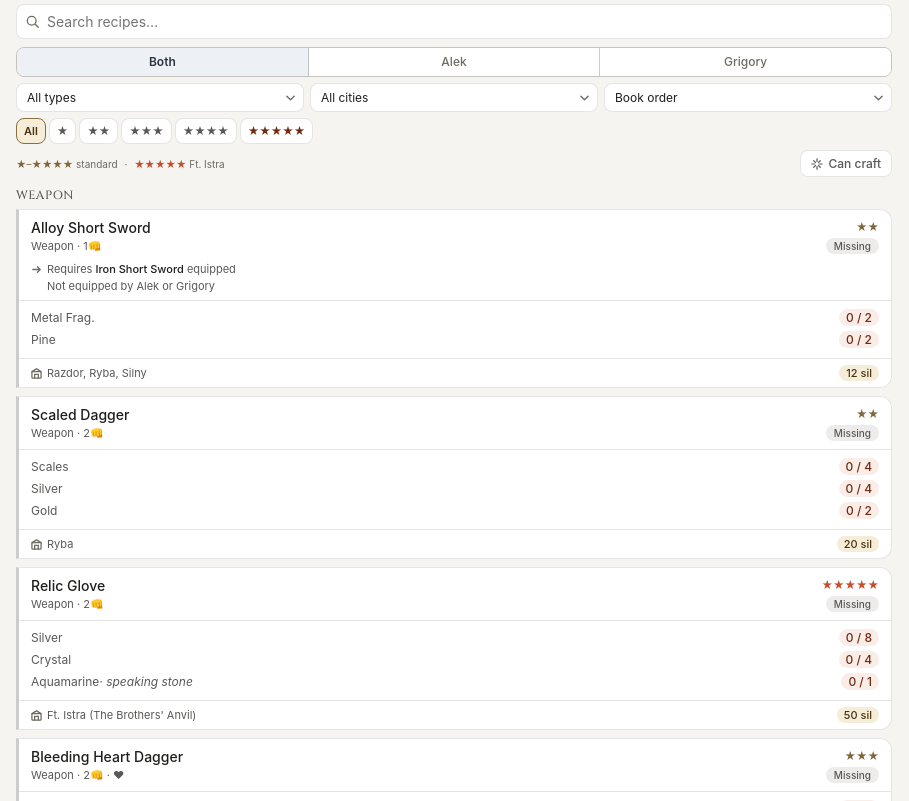
CraftTab — "Upgrades into" links › a link opens its target, clearing the filters that hid it
Select "Mir" in the dropdown named "Filter by city" at (454, 98), box [310, 83, 598, 112]
(page scrolled)
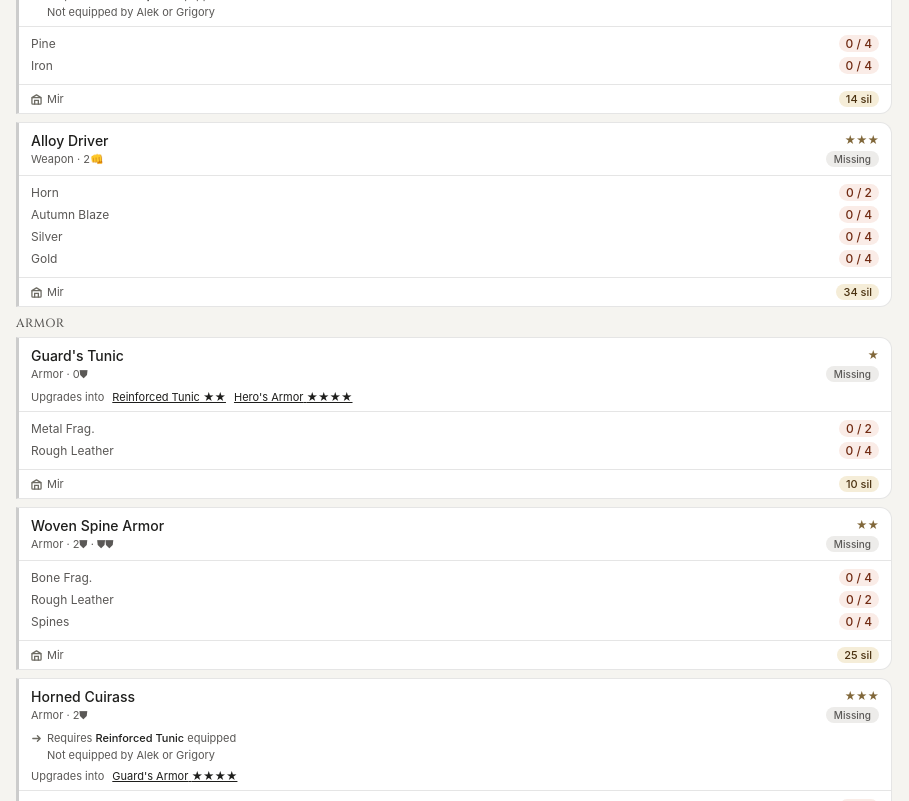
Expected: the text "Guard's Tunic" is shown, [31, 347, 124, 364]
Expected: the text "Hero's Armor" is not shown
Click the button with class "craft-upgrades-link" showing "Hero's Armor ★★★★".
click(293, 397)  # box [234, 390, 352, 404]
(page scrolled)
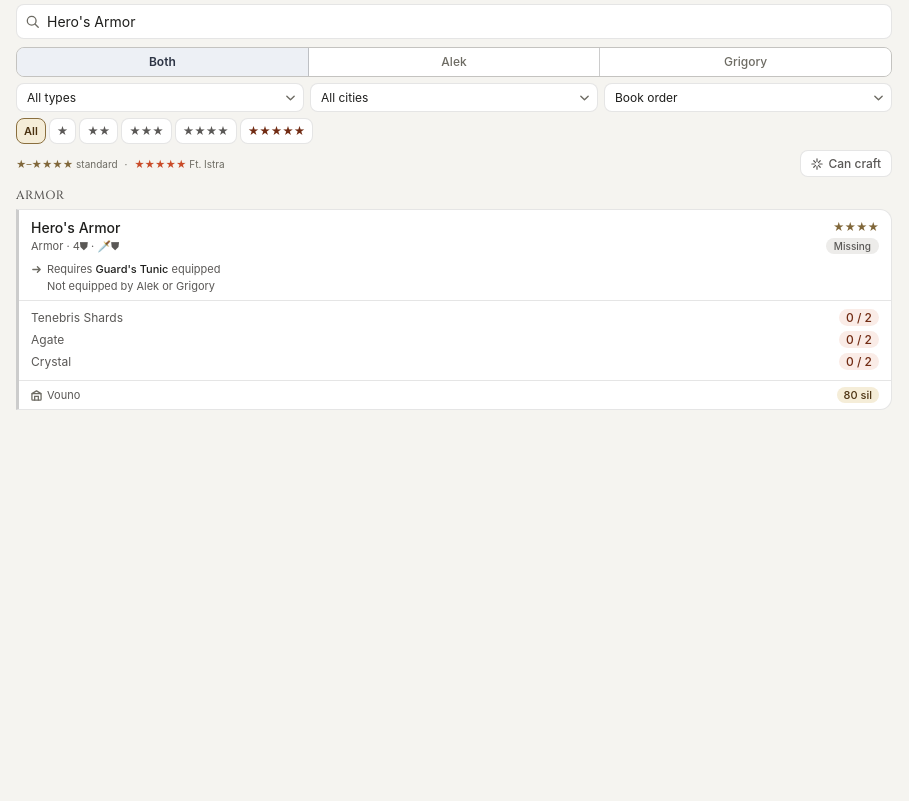
Expected: the search field with class "craft-search" holds "Hero's Armor", [16, 4, 892, 39]
